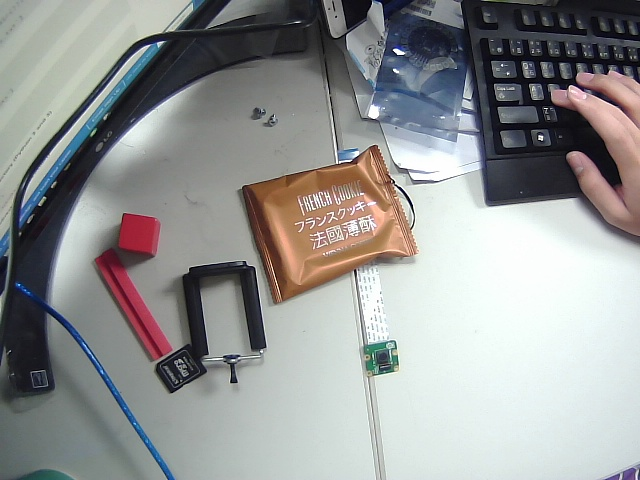frenchcookie: (237, 137, 433, 308)
